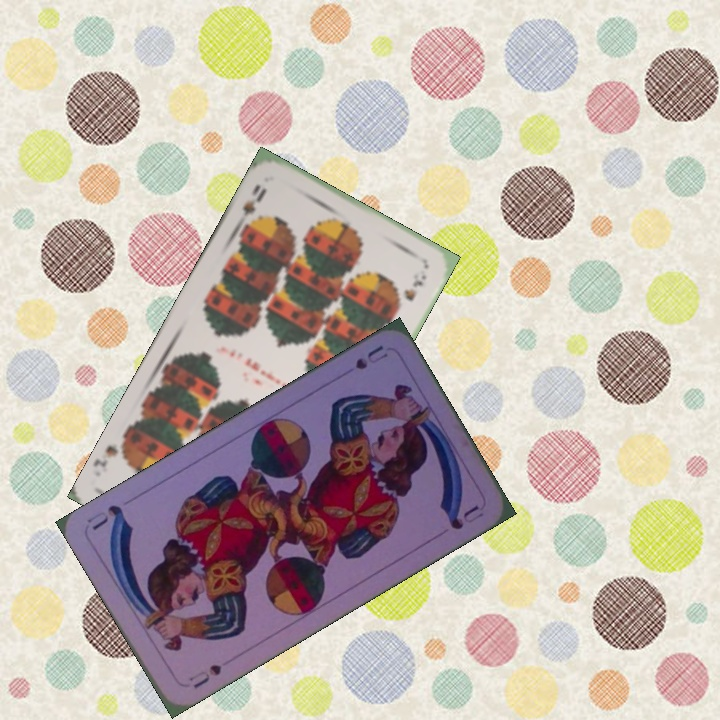S9: (232, 180, 270, 232)
SU: (351, 341, 391, 373), (185, 660, 224, 691)
